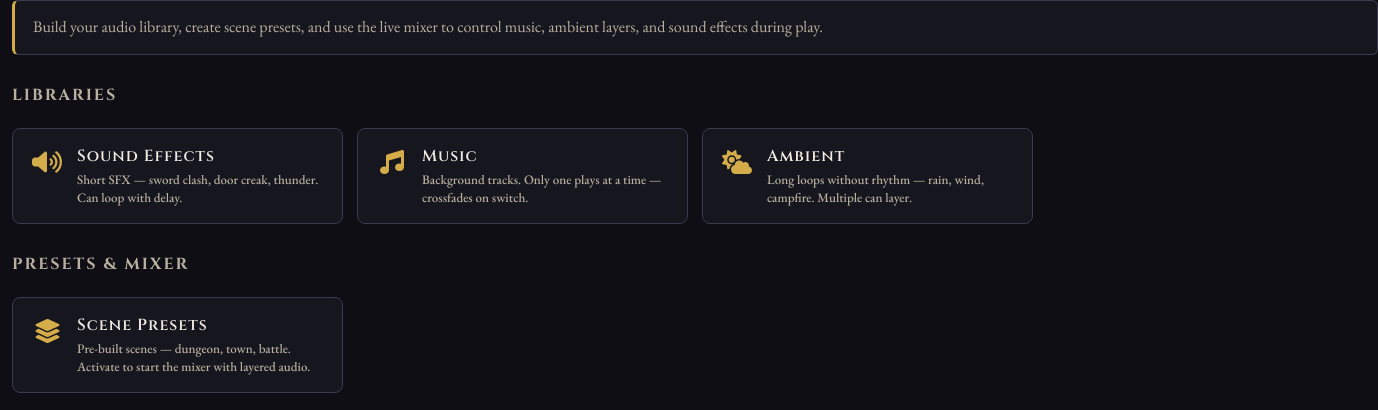
Scenario: SoundIndex › drills into Scene Presets
The width and height of the screenshot is (1378, 410).
Click the text "Scene Presets" at x=142, y=325, box [77, 314, 208, 336]
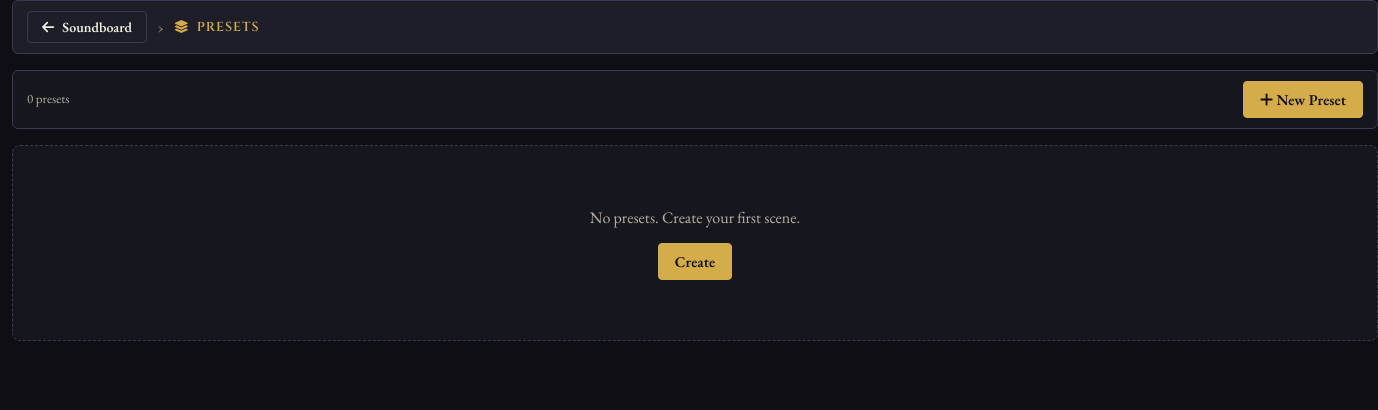
Expected: the button "Soundboard" is shown, [27, 11, 147, 43]
